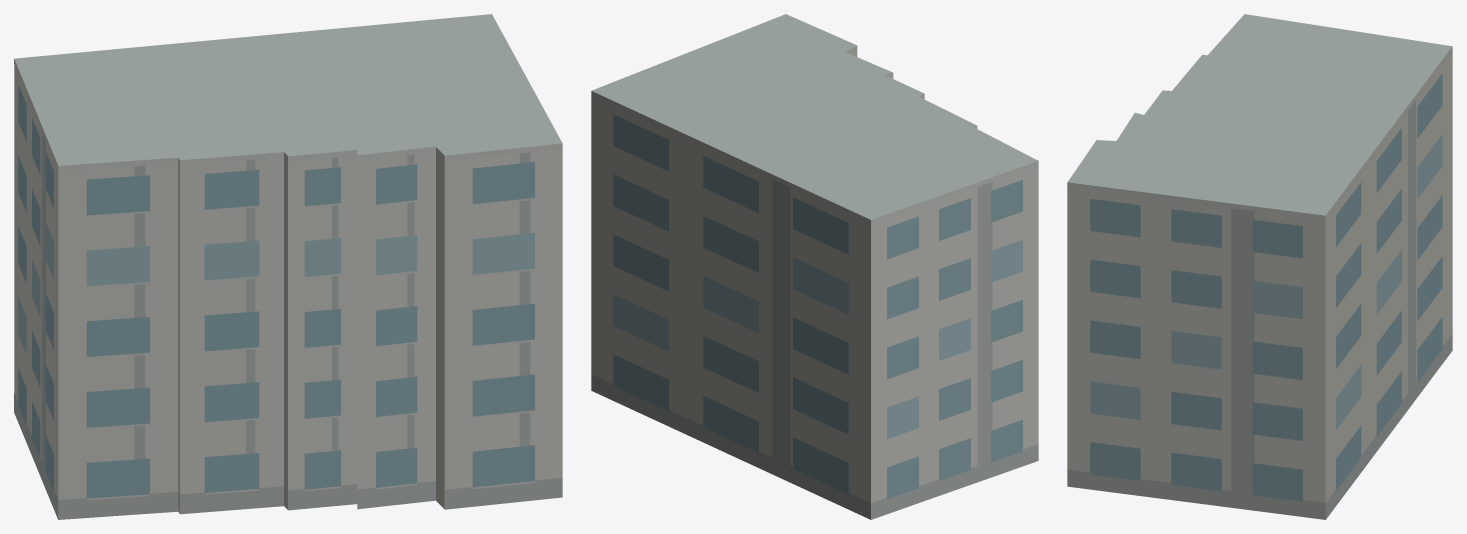
Rendered from survey-upis-32810293.glb.
The picture shows the model from 3 angles, left to right: view 1: azimuth 30°, elevation 25°; view 2: azimuth 150°, elevation 25°; view 3: azimuth 270°, elevation 25°; orthographic projection. The views are drawn at different scales.
Visible parts, largest first — view 1: survey-upis-32810293.tmp; view 2: survey-upis-32810293.tmp; view 3: survey-upis-32810293.tmp.
Boxes of the visible parts, x1,y1,x2,y2 form: survey-upis-32810293.tmp: (14,14,562,519); survey-upis-32810293.tmp: (591,14,1038,519); survey-upis-32810293.tmp: (1067,14,1452,519).
Bounding box in the file's own units: 21.69 × 15.25 × 17.5.
